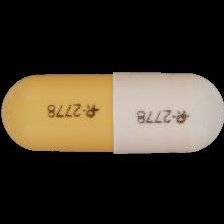68151-3071: (0, 0, 224, 224)
